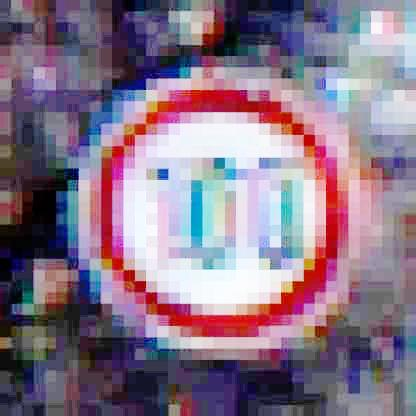Speed Limit -100-: (80, 76, 366, 357)
